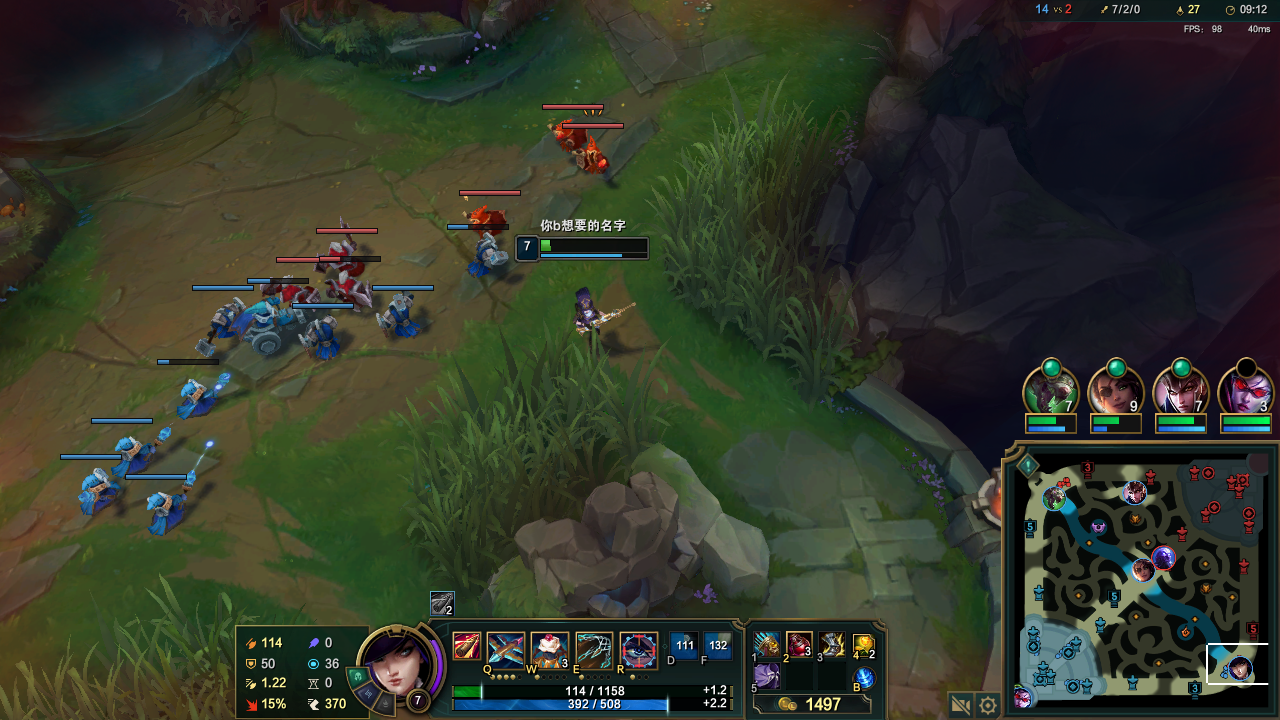DFXB: (316, 233, 369, 275), (326, 276, 367, 310), (463, 207, 506, 233), (578, 140, 605, 173), (284, 276, 310, 308), (557, 121, 583, 148)
WFXB: (248, 295, 309, 350), (378, 292, 428, 336), (141, 491, 190, 534), (173, 381, 230, 417), (302, 319, 345, 358), (467, 238, 510, 271), (206, 302, 245, 333), (80, 474, 118, 502), (116, 436, 152, 465)
